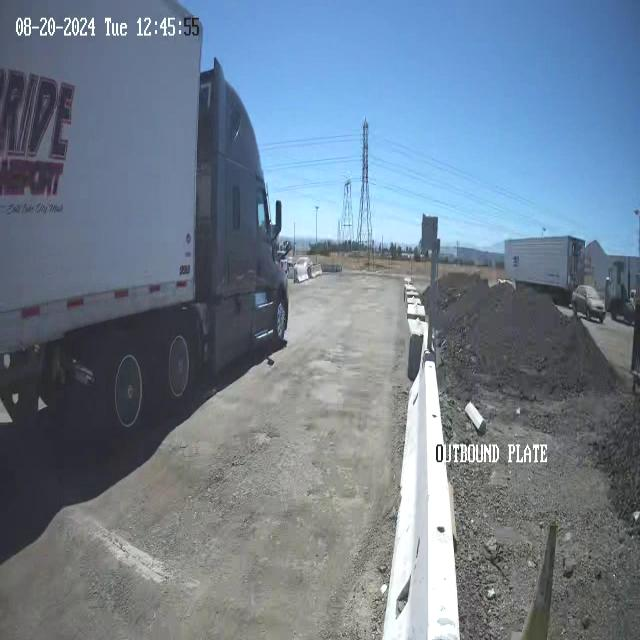TRUCK_CONTAINER: (1, 2, 290, 446)
